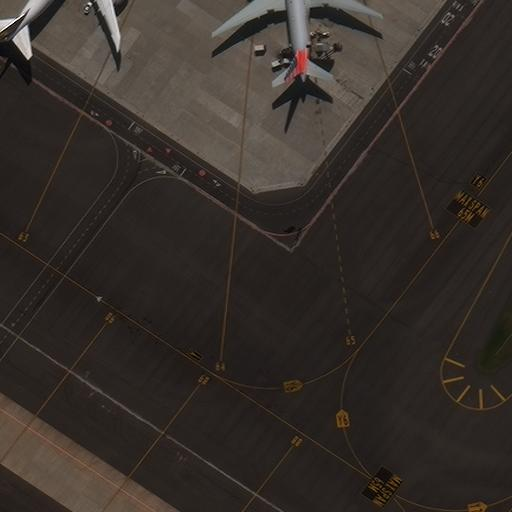Large Civil Transport: (223, 0, 370, 77), (0, 0, 118, 38)
